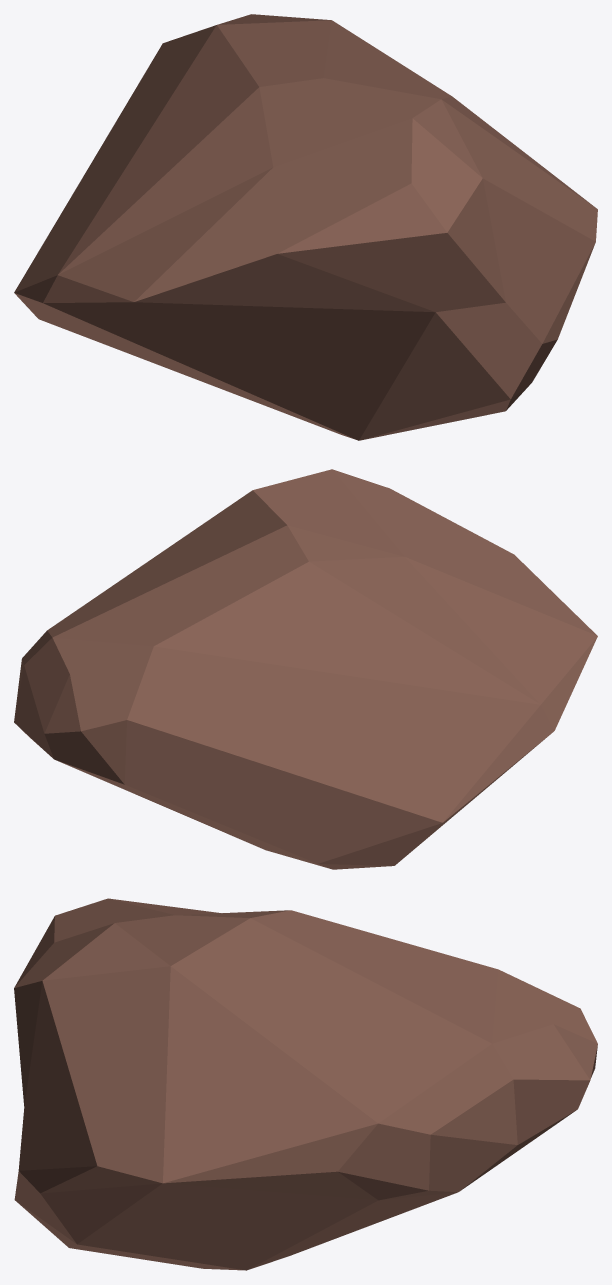
The model's file is MonsterDenRock4.fbx.
3 renders of one model, top to bottom at view 1: azimuth 30°, elevation 25°; view 2: azimuth 150°, elevation 25°; view 3: azimuth 270°, elevation 25°, orthographic. The views are drawn at different scales.
Visible parts, largest first — view 1: Rock.017; view 2: Rock.017; view 3: Rock.017.
Boxes of the visible parts, x1,y1,x2,y2 form: Rock.017: (14,14,597,440); Rock.017: (14,469,597,869); Rock.017: (14,898,597,1270).
Size of the model in its own units: 724 by 449 by 718.
